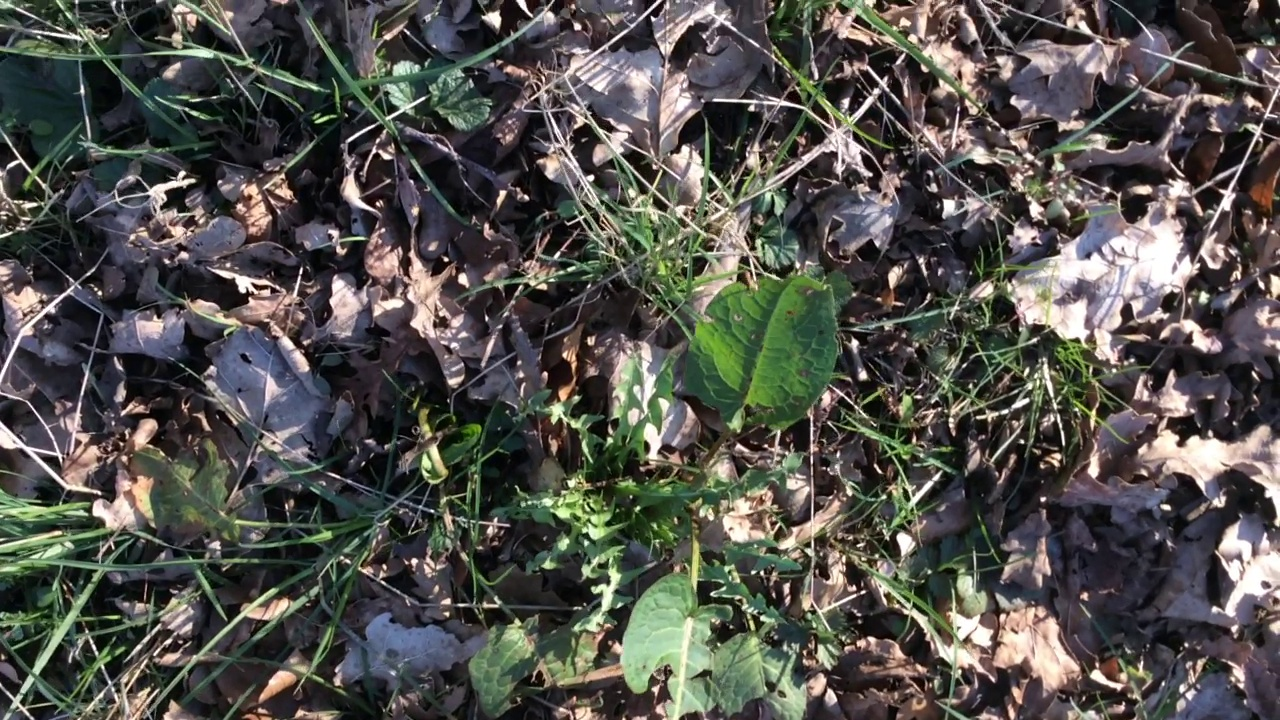rumex: (469, 276, 836, 720)
